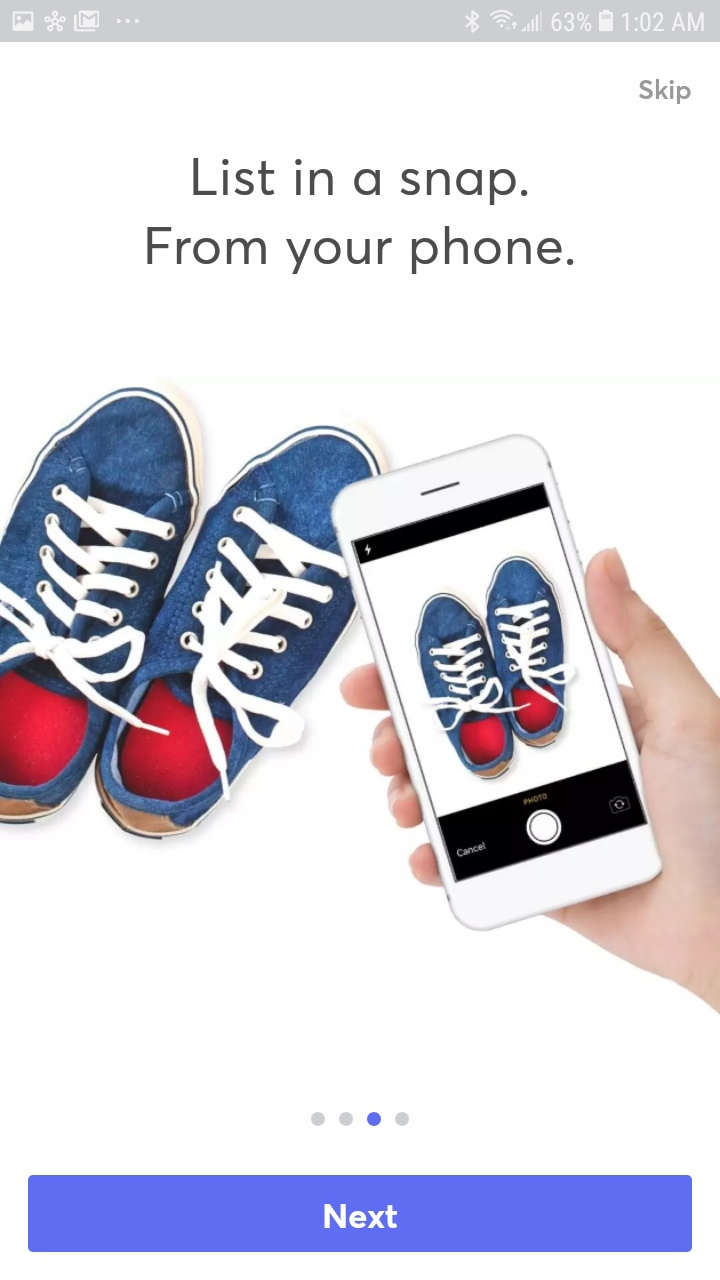Image: (1, 375, 720, 1015)
PageIndicator: (310, 1111, 410, 1127)
Text: (147, 226, 574, 275), (193, 159, 528, 207), (639, 79, 692, 105)
TextButton: (29, 1174, 693, 1252)
UpperTaskBar: (1, 1, 720, 43)
